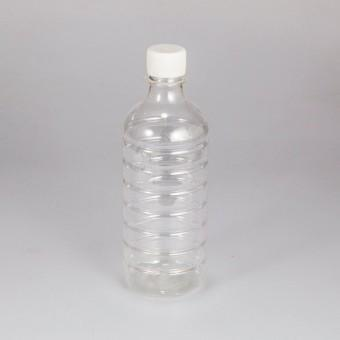bottle: (118, 43, 210, 295)
